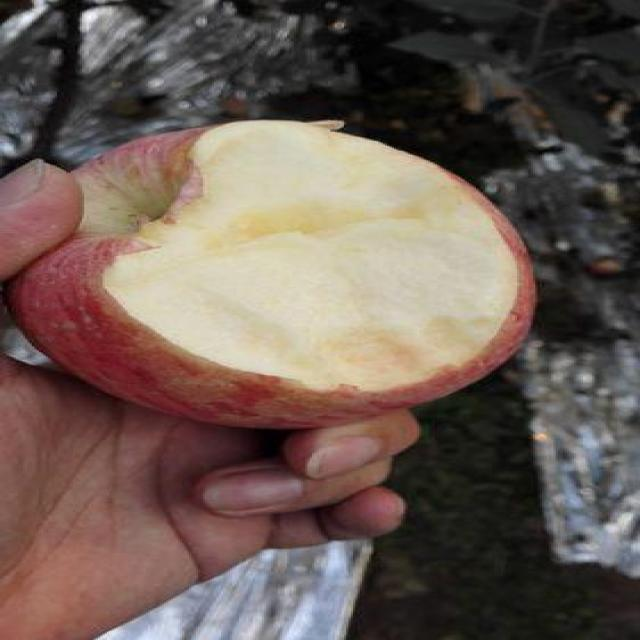Banana: (27, 118, 540, 430)
